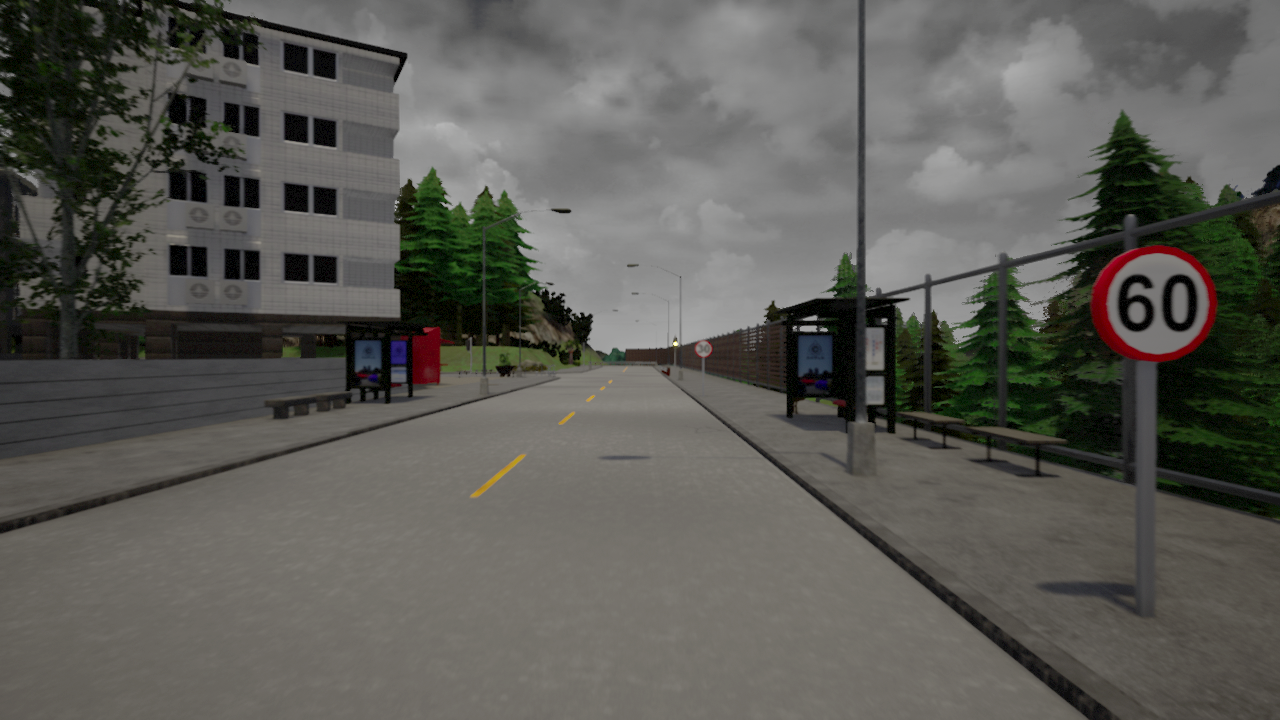yellow: (672, 336, 678, 352)
